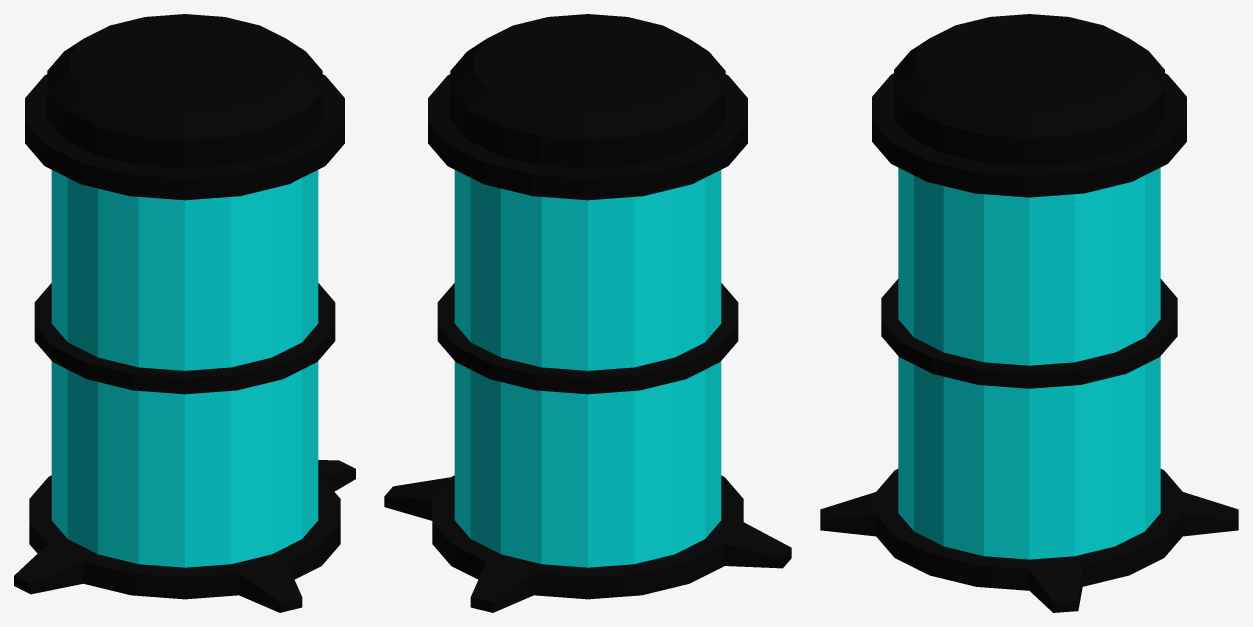
File: Tank.FBX
3 renders of one model, left to right at view 1: azimuth 30°, elevation 25°; view 2: azimuth 150°, elevation 25°; view 3: azimuth 270°, elevation 25°, orthographic.
Visible parts, largest first — view 1: Cylinder002; view 2: Cylinder002; view 3: Cylinder002.
Boxes of the visible parts, x1,y1,x2,y2 form: Cylinder002: (14, 14, 355, 612); Cylinder002: (384, 14, 791, 612); Cylinder002: (820, 14, 1238, 612).
Bounding box in the file's own units: 3.11 × 3.82 × 3.13.
